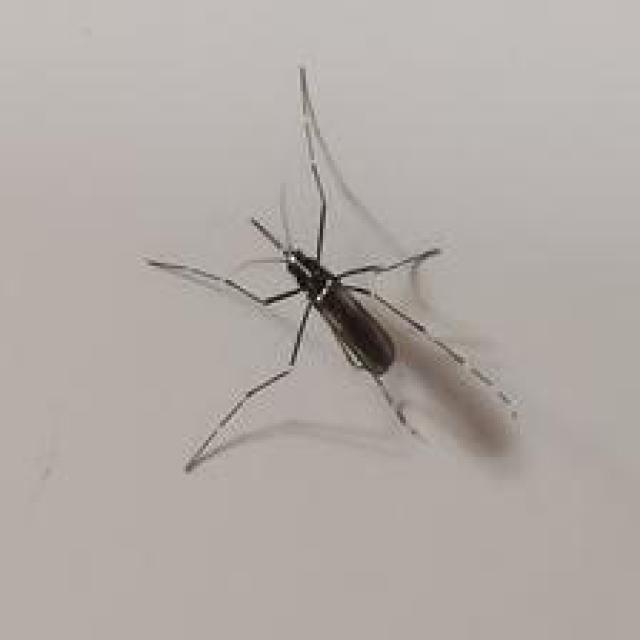Aedes albopictus: (142, 63, 522, 474)
